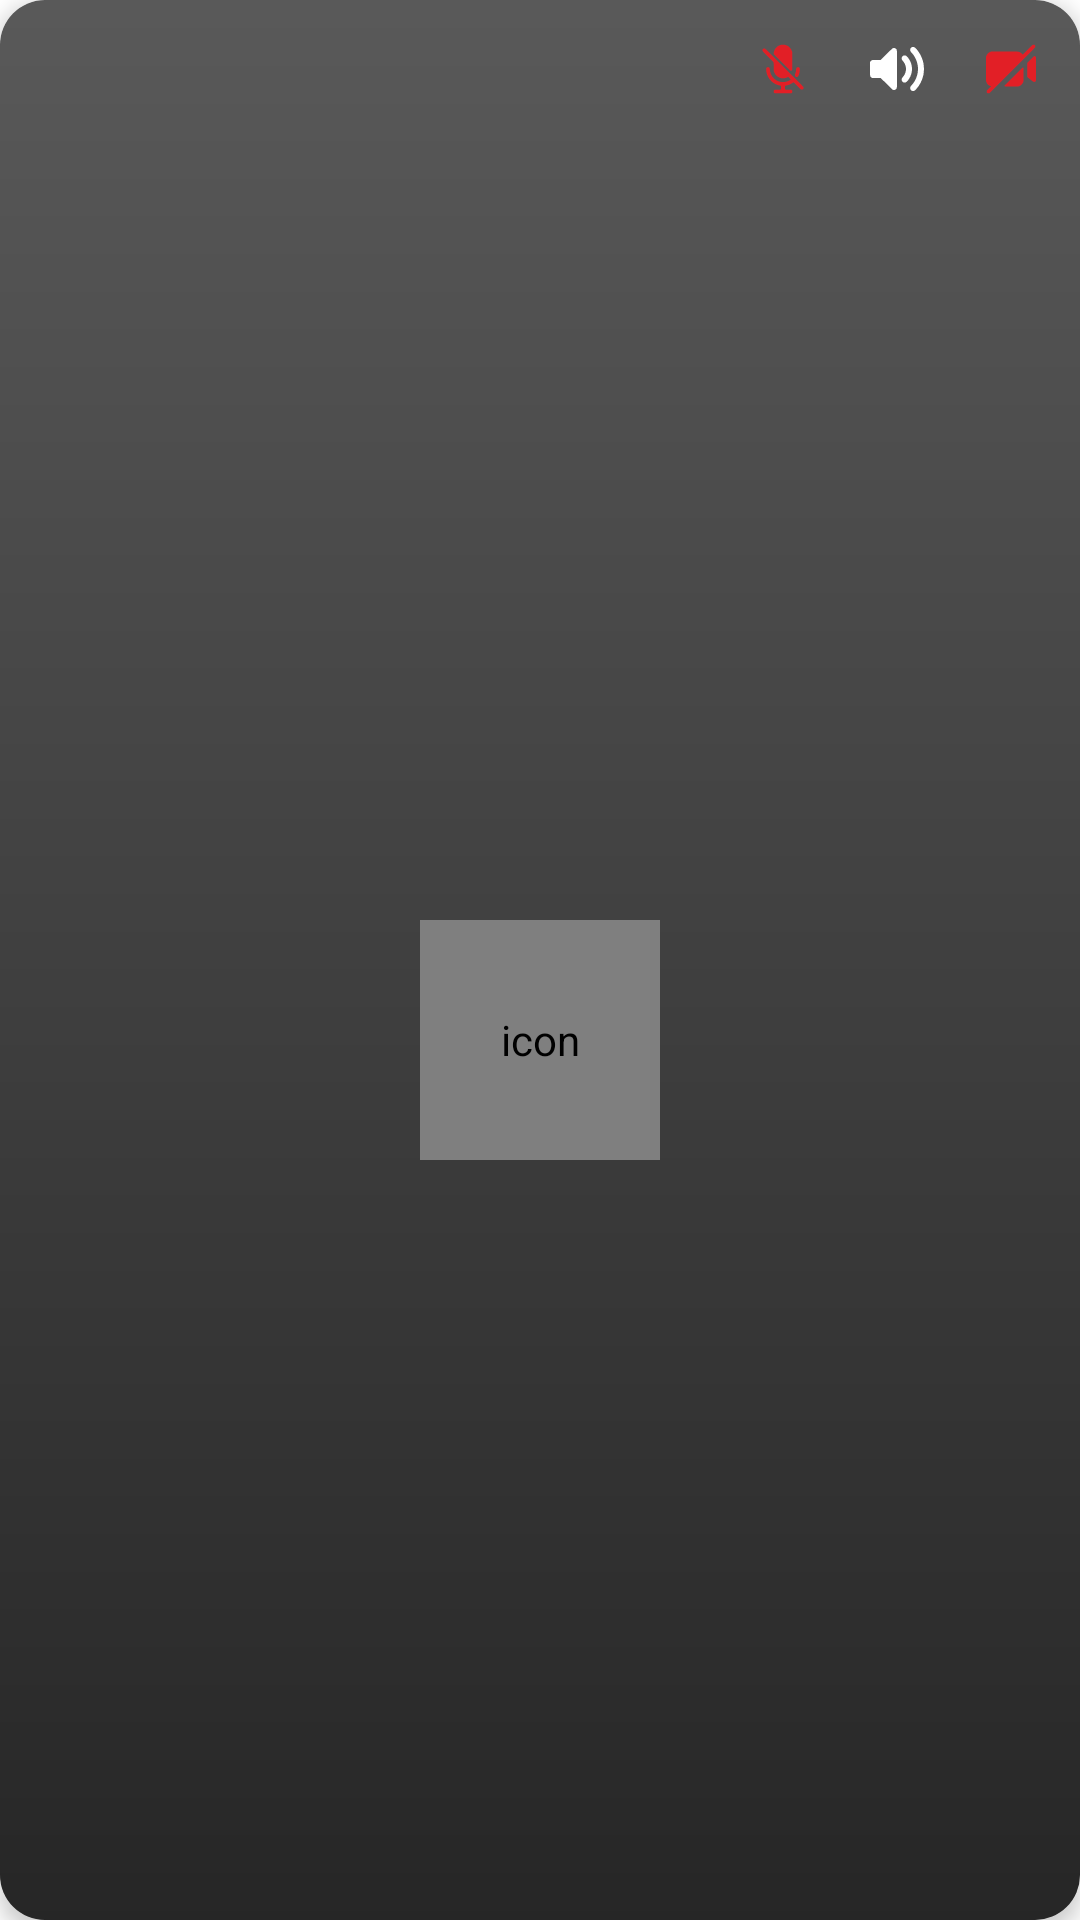

Screen size 1080w x 1920h. Icon name, then its center in pixels as [x,y]:
mic off: [783,69]
speaker on: [897,69]
video off: [1011,69]
